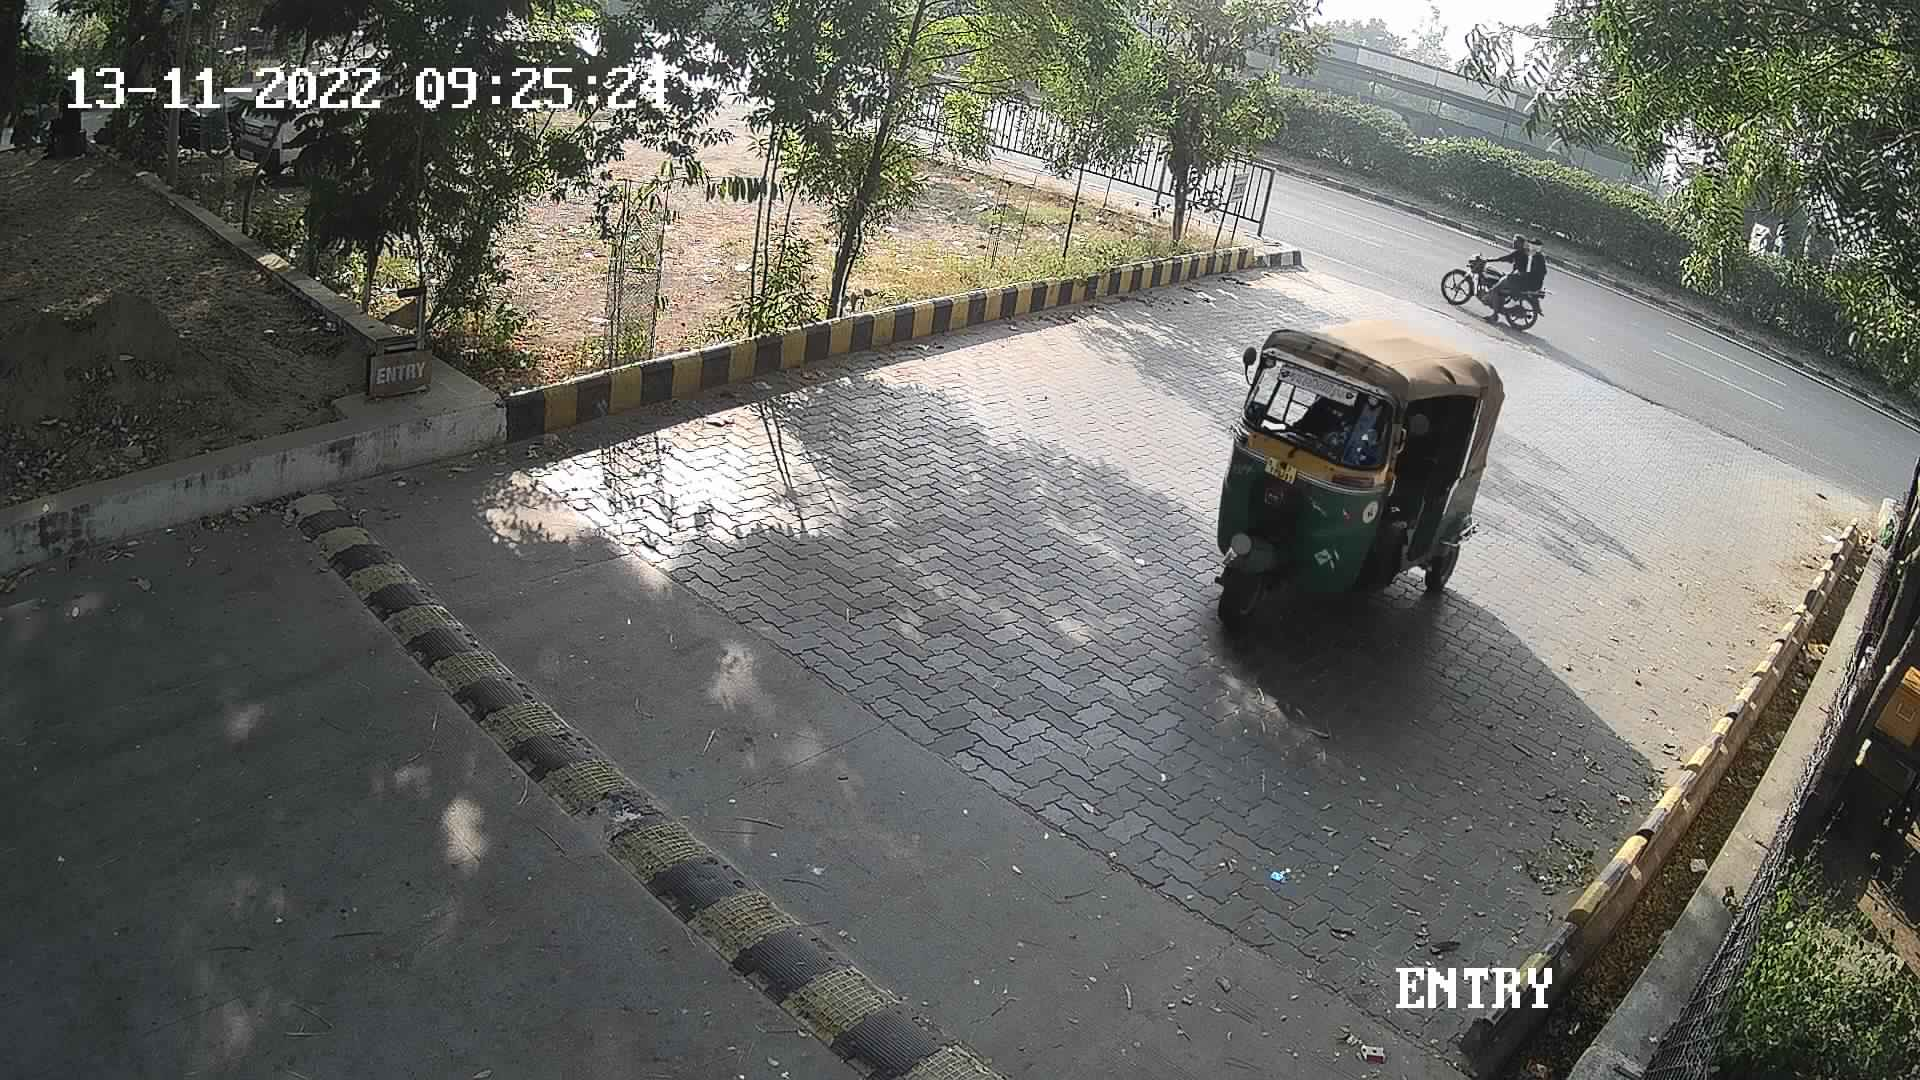Auto: (1197, 289, 1506, 649)
Bike: (1432, 228, 1567, 339)
Car: (214, 29, 356, 212)
